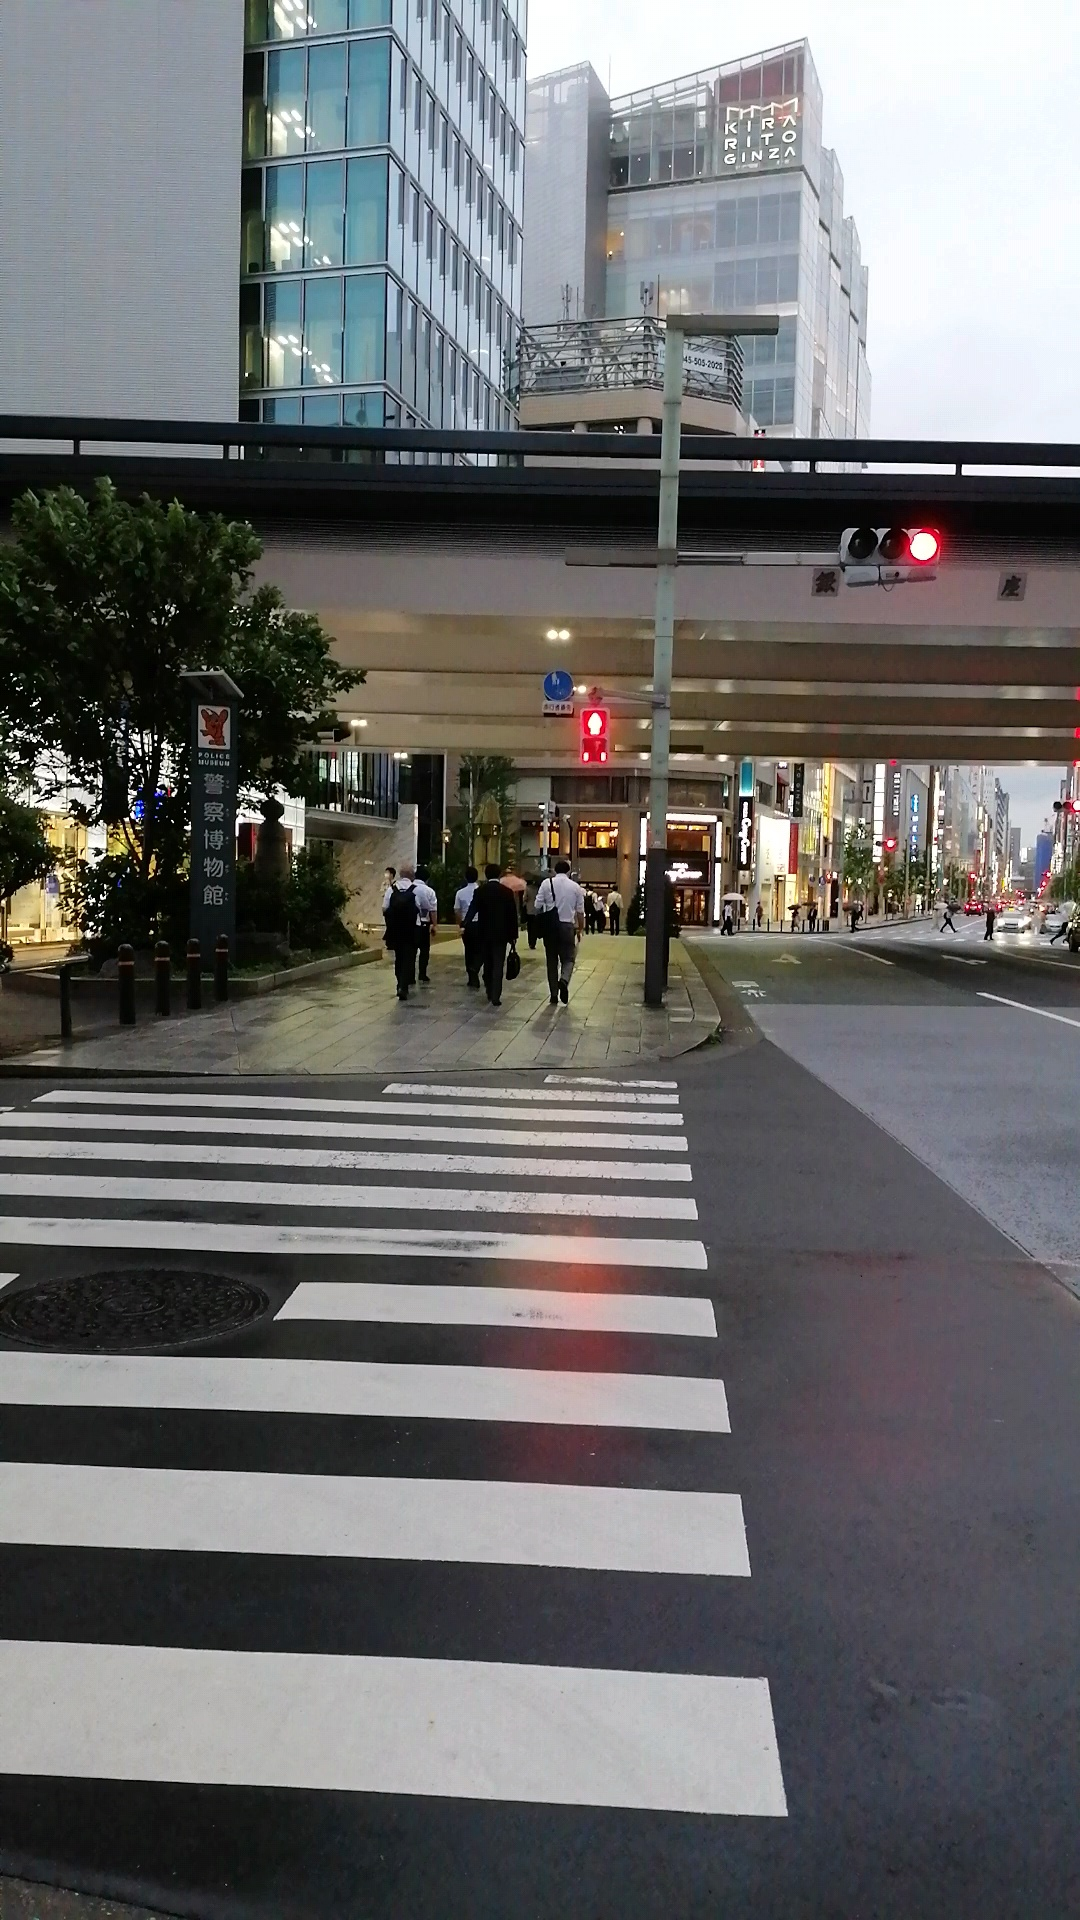red: (578, 705, 611, 766)
